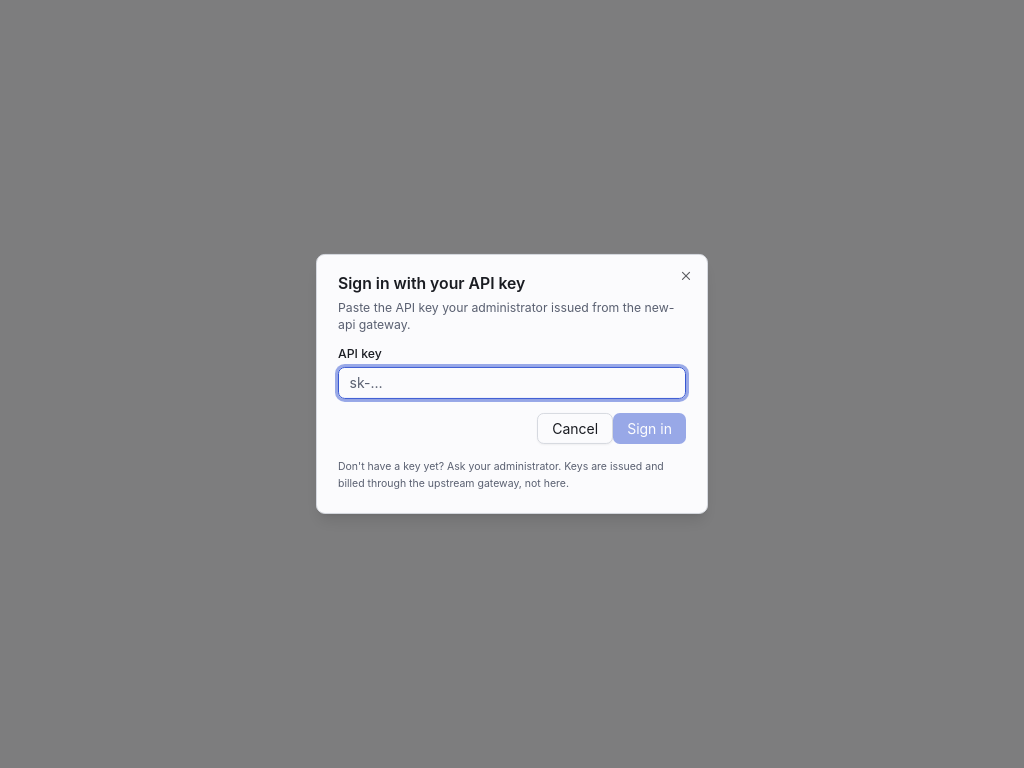
it: KeyPromptModal › maps invalid_key to a friendly message
Type "sk-bad" into the password field with placeholder "sk-…" at {"x": 512, "y": 383}, box [338,367,686,398]
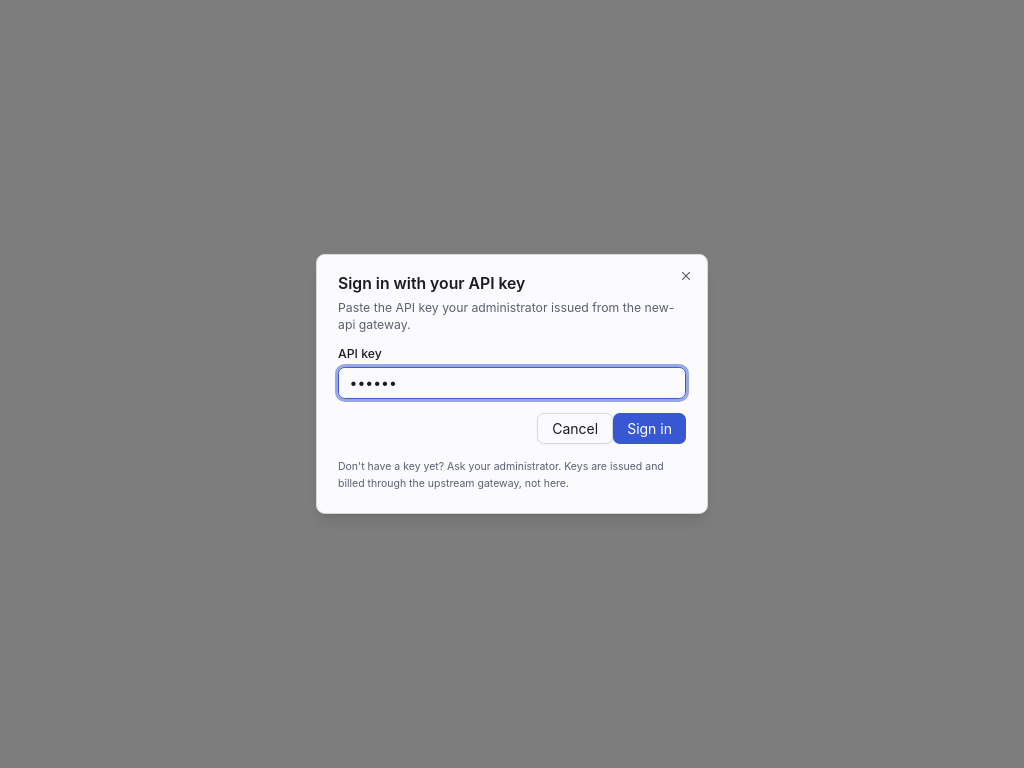
Click the button "Sign in" at {"x": 650, "y": 428}, box [613,412,686,444]
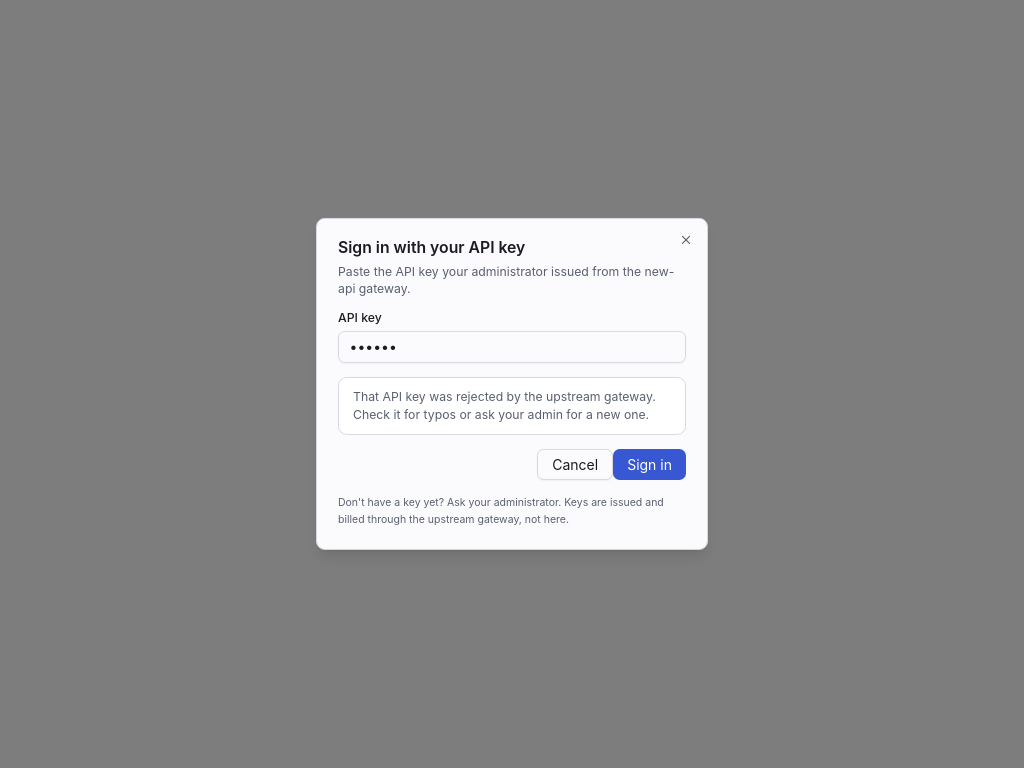
Now the text "rejected by the upstream gateway" is shown, box [353,389,656,421]
